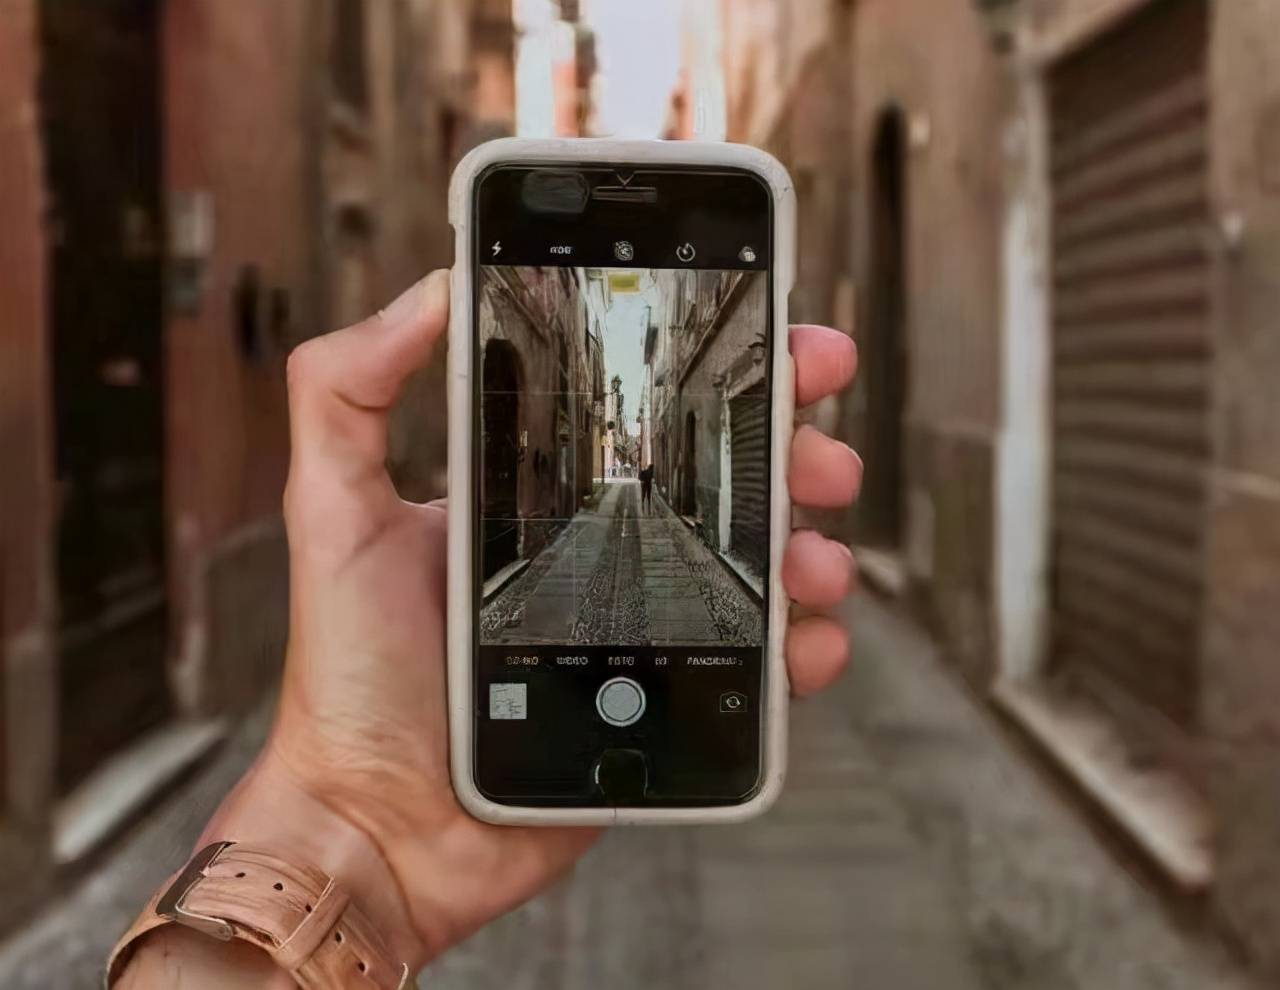taking photos: (263, 126, 872, 949)
